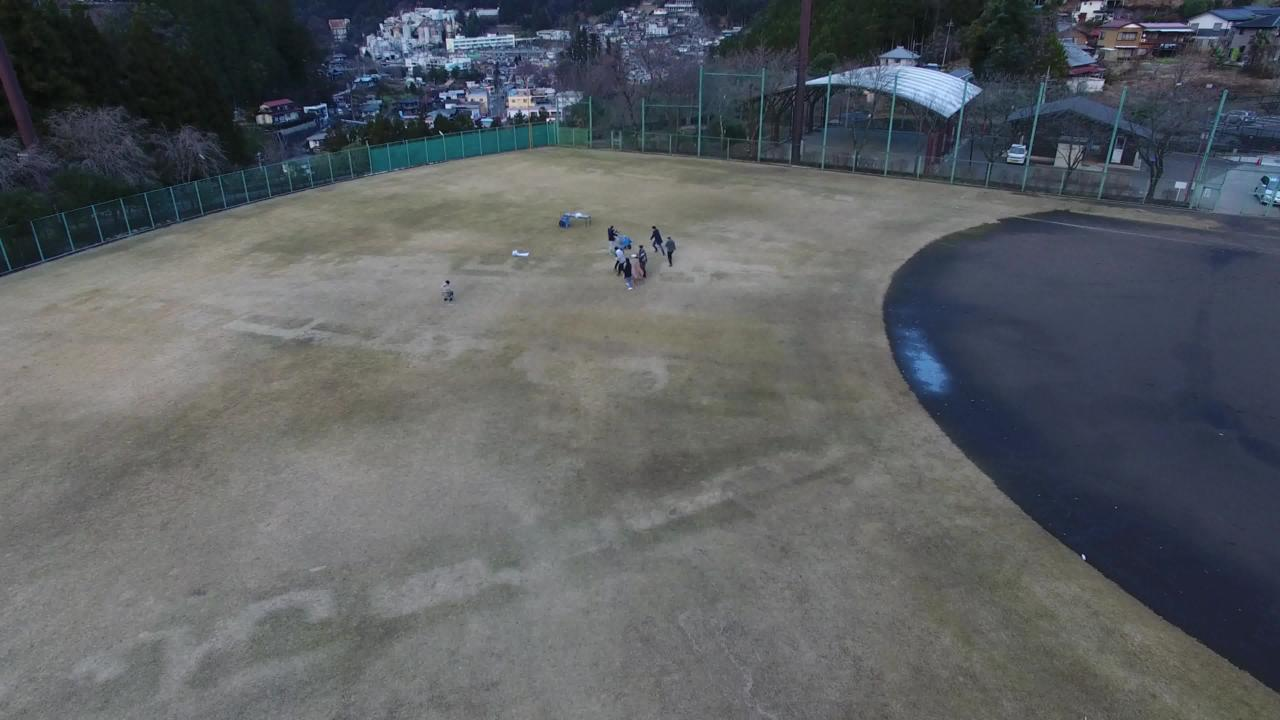person: (633, 236, 656, 292), (601, 213, 621, 256), (435, 277, 460, 310), (617, 247, 631, 297), (665, 225, 678, 275), (645, 217, 662, 254)
